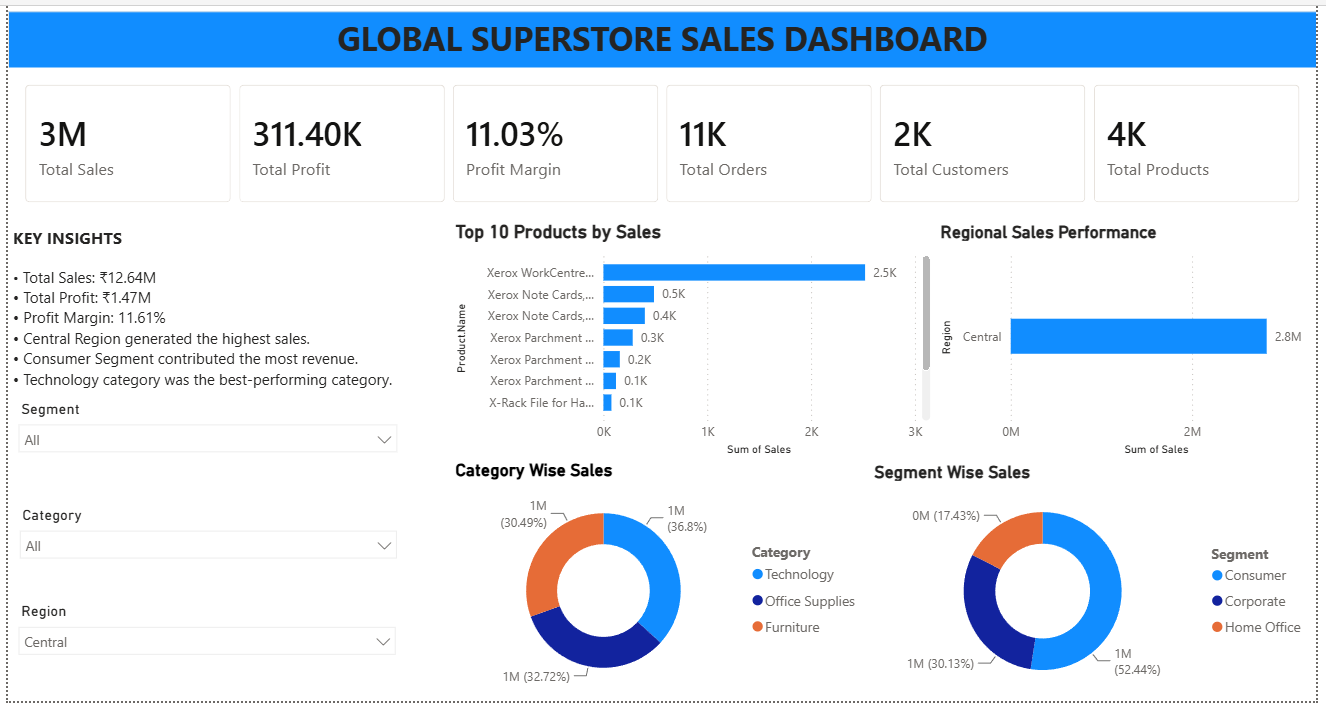

What the dashboard file says about the page in this screenshot:
{"tool":"powerbi","page":{"name":"Page 1","canvas":[1280,720],"ordinal":0},"visuals":[{"type":"donutChart","title":"Category Wise Sales","fields":{"Category":["superstore.Category"],"Y":["Sum(superstore.Sales)"]},"box":[432.6,484,409.6,236.6],"z":0},{"type":"clusteredBarChart","title":"Regional Sales Performance","fields":{"Category":["superstore.Region"],"Y":["Sum(superstore.Sales)"]},"box":[907.1,250.1,373.1,233.9],"z":1000},{"type":"donutChart","title":"Segment Wise Sales","fields":{"Category":["superstore.Segment"],"Y":["Sum(superstore.Sales)"]},"box":[842.3,485.3,436.7,235.2],"z":2000},{"type":"clusteredBarChart","title":"Top 10 Products by Sales","fields":{"Category":["superstore.Product.Name"],"Y":["Sum(superstore.Sales)"]},"box":[432.6,250.1,474.5,233.9],"z":3000},{"type":"textbox","box":[0,45.3,1280.3,57.6],"z":4000},{"type":"slicer","fields":{"Values":["superstore.Region"]},"box":[0,619.2,389.4,101.4],"z":5000},{"type":"slicer","fields":{"Values":["superstore.Category"]},"box":[1.4,524.5,389.4,94.6],"z":6000},{"type":"slicer","fields":{"Values":["superstore.Segment"]},"box":[0,420.4,390.7,104.1],"z":7000},{"type":"textbox","box":[0,250.1,390.7,170.3],"z":8000},{"type":"cardVisual","fields":{"Data":["superstore.Total Sales","superstore.Total Profit","superstore.Profit Margin","superstore.Total Orders","superstore.Total Customers","superstore.Total Products"]},"box":[0,100.3,1280.3,149.2],"z":9000}]}

Visuals, with their boxes on the page's 1280x720 design canvas (x1, y1, x2, y2). These are canvas units, not pixel positions in the 1326x705 screenshot, which may show the page scaled, cropped or inside an application window:
"Category Wise Sales" donutChart: [433, 484, 842, 721]
"Regional Sales Performance" clusteredBarChart: [907, 250, 1280, 484]
"Segment Wise Sales" donutChart: [842, 485, 1279, 720]
"Top 10 Products by Sales" clusteredBarChart: [433, 250, 907, 484]
textbox: [0, 45, 1280, 103]
slicer - superstore.Region: [0, 619, 389, 721]
slicer - superstore.Category: [1, 524, 391, 619]
slicer - superstore.Segment: [0, 420, 391, 524]
textbox: [0, 250, 391, 420]
cardVisual - superstore.Total Sales x superstore.Total Profit: [0, 100, 1280, 250]
